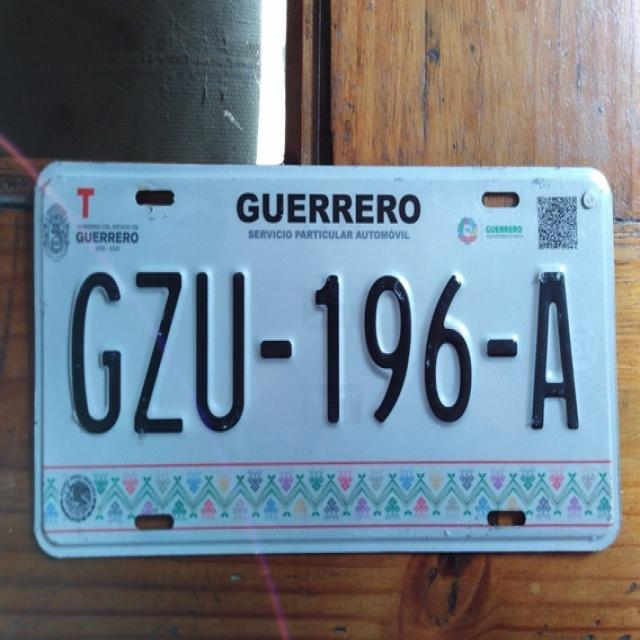placa: (46, 254, 600, 452)
